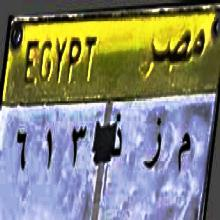1: (41, 121, 59, 180)
3: (70, 117, 88, 174)
6: (13, 119, 28, 178)
meem: (174, 125, 192, 185)
zaal: (109, 108, 124, 164)
zay: (142, 112, 166, 175)
